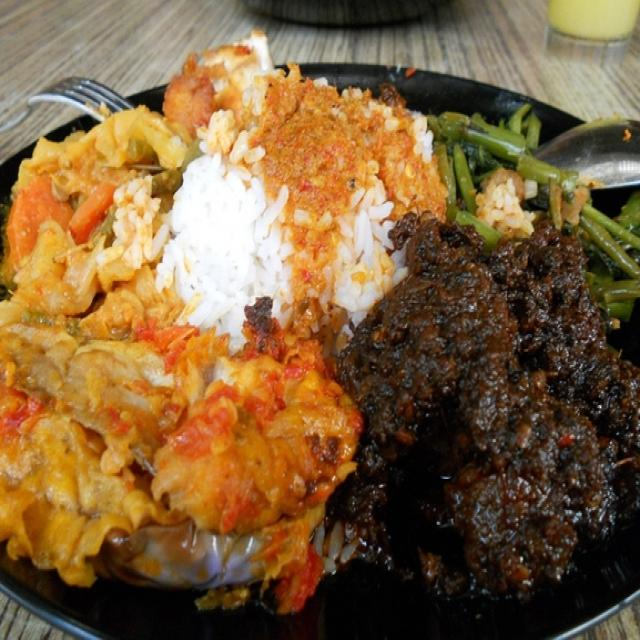米饭主食: (10, 18, 619, 615)
